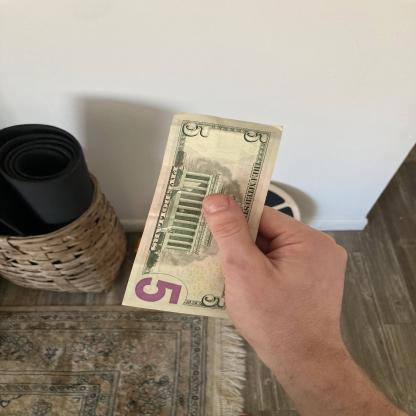five-back: (120, 112, 286, 320)
